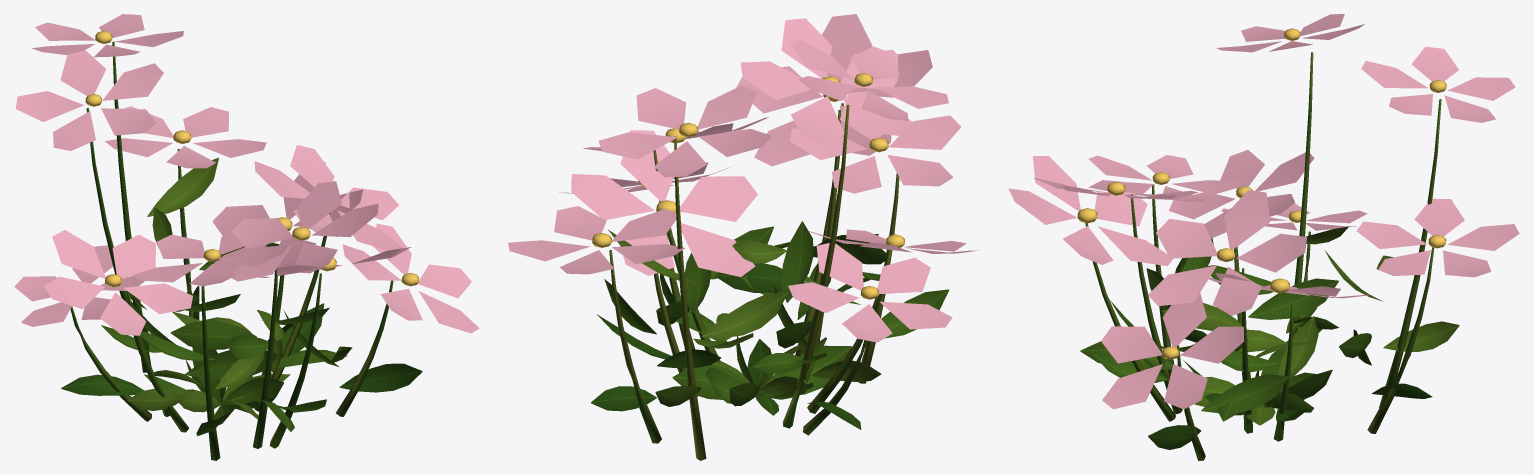
Rendered from Pink_ornamental_1.glb.
3 renders of one model, left to right at view 1: azimuth 30°, elevation 25°; view 2: azimuth 150°, elevation 25°; view 3: azimuth 270°, elevation 25°, orthographic. The views are drawn at different scales.
Visible parts, largest first — view 1: Pink_ornamental_1_Flowers.003, Pink_ornamental_1_Leaves.004, Pink_ornamental_1_Stems.004, Pink_ornamental_1_Centers.003; view 2: Pink_ornamental_1_Flowers.003, Pink_ornamental_1_Leaves.004, Pink_ornamental_1_Stems.004, Pink_ornamental_1_Centers.003; view 3: Pink_ornamental_1_Flowers.003, Pink_ornamental_1_Leaves.004, Pink_ornamental_1_Stems.004, Pink_ornamental_1_Centers.003.
Boxes of the visible parts, bbox=[...] form: Pink_ornamental_1_Flowers.003: bbox=[14, 14, 479, 335]; Pink_ornamental_1_Leaves.004: bbox=[61, 157, 422, 436]; Pink_ornamental_1_Stems.004: bbox=[70, 41, 393, 460]; Pink_ornamental_1_Centers.003: bbox=[83, 31, 419, 286]; Pink_ornamental_1_Flowers.003: bbox=[508, 14, 979, 342]; Pink_ornamental_1_Leaves.004: bbox=[591, 221, 949, 429]; Pink_ornamental_1_Stems.004: bbox=[609, 103, 899, 460]; Pink_ornamental_1_Centers.003: bbox=[592, 73, 904, 299]; Pink_ornamental_1_Flowers.003: bbox=[1008, 14, 1519, 409]; Pink_ornamental_1_Leaves.004: bbox=[1080, 226, 1459, 449]; Pink_ornamental_1_Stems.004: bbox=[1085, 52, 1441, 460]; Pink_ornamental_1_Centers.003: bbox=[1077, 28, 1446, 359].
Bounding box in the file's own units: 1.09 × 0.9197 × 1.22.
Materials: 3 (1 with a texture image).
